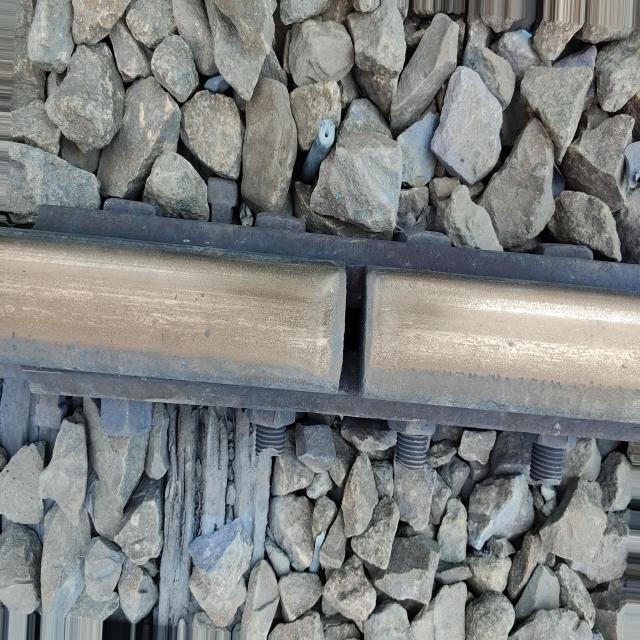crack: (317, 242, 388, 413)
